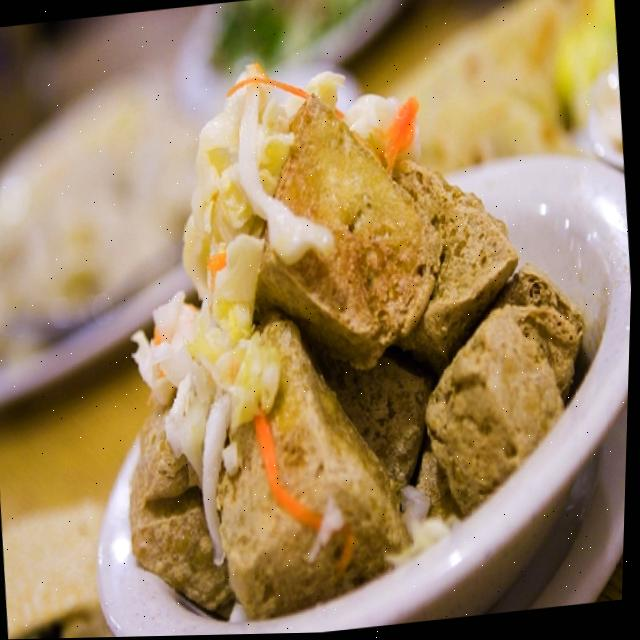豆腐料理: (8, 3, 640, 640)
